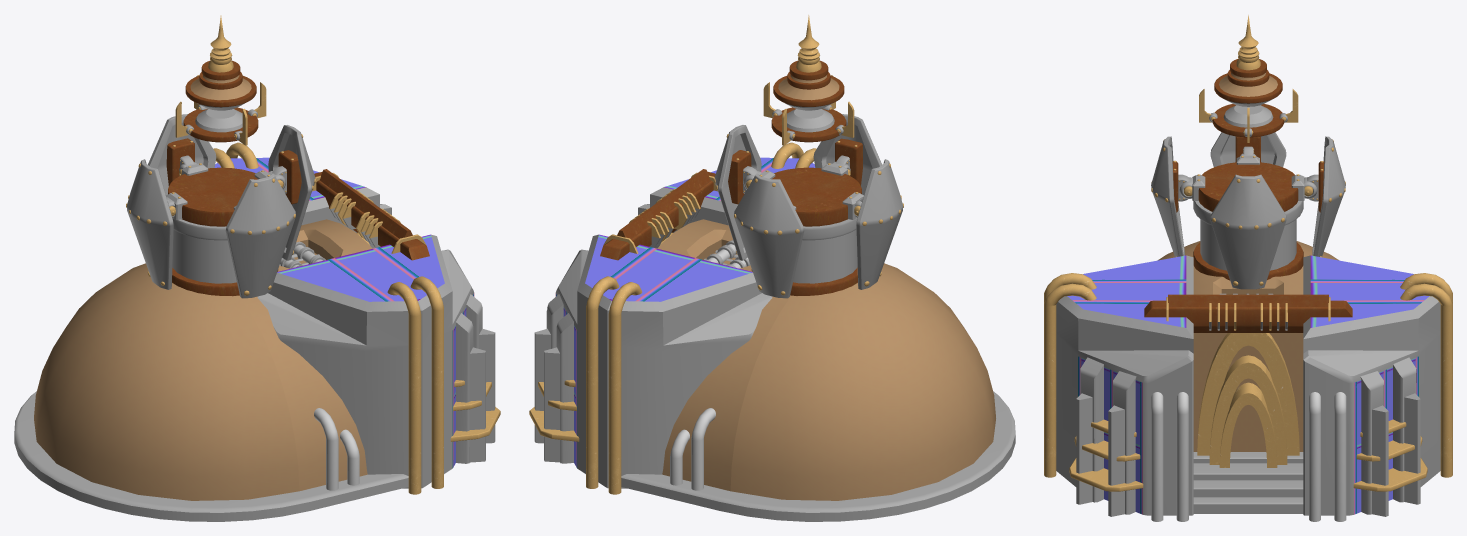
The model's file is Building_01.fbx.
The picture shows the model from 3 angles, left to right: view 1: azimuth 30°, elevation 25°; view 2: azimuth 150°, elevation 25°; view 3: azimuth 270°, elevation 25°; orthographic projection. The views are drawn at different scales.
Parts seen in each view (by area): view 1: Building_01; view 2: Building_01; view 3: Building_01.
Boxes of the visible parts, x1,y1,x2,y2 form: Building_01: (14,15,500,521); Building_01: (529,15,1015,521); Building_01: (1044,15,1452,521).
Size of the model in its own units: 594 by 611 by 555.
